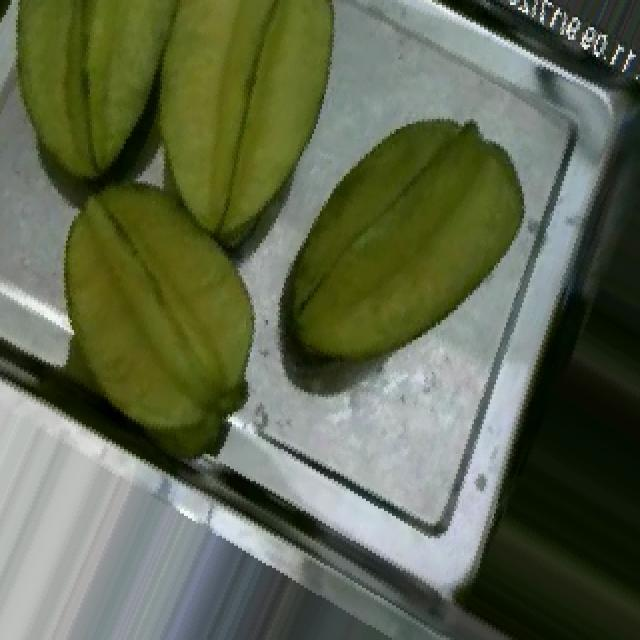fruit: (248, 70, 564, 404), (14, 144, 298, 481), (78, 2, 404, 278), (0, 0, 206, 203)
